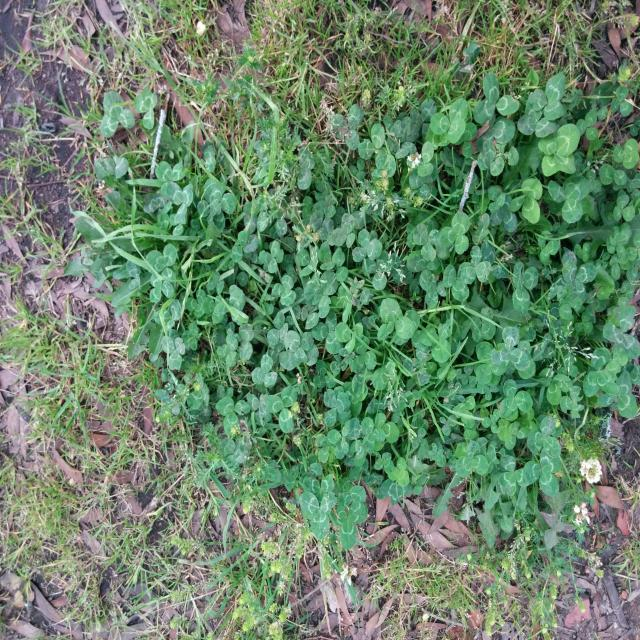Four Leaf Clover: (538, 124, 580, 177)
